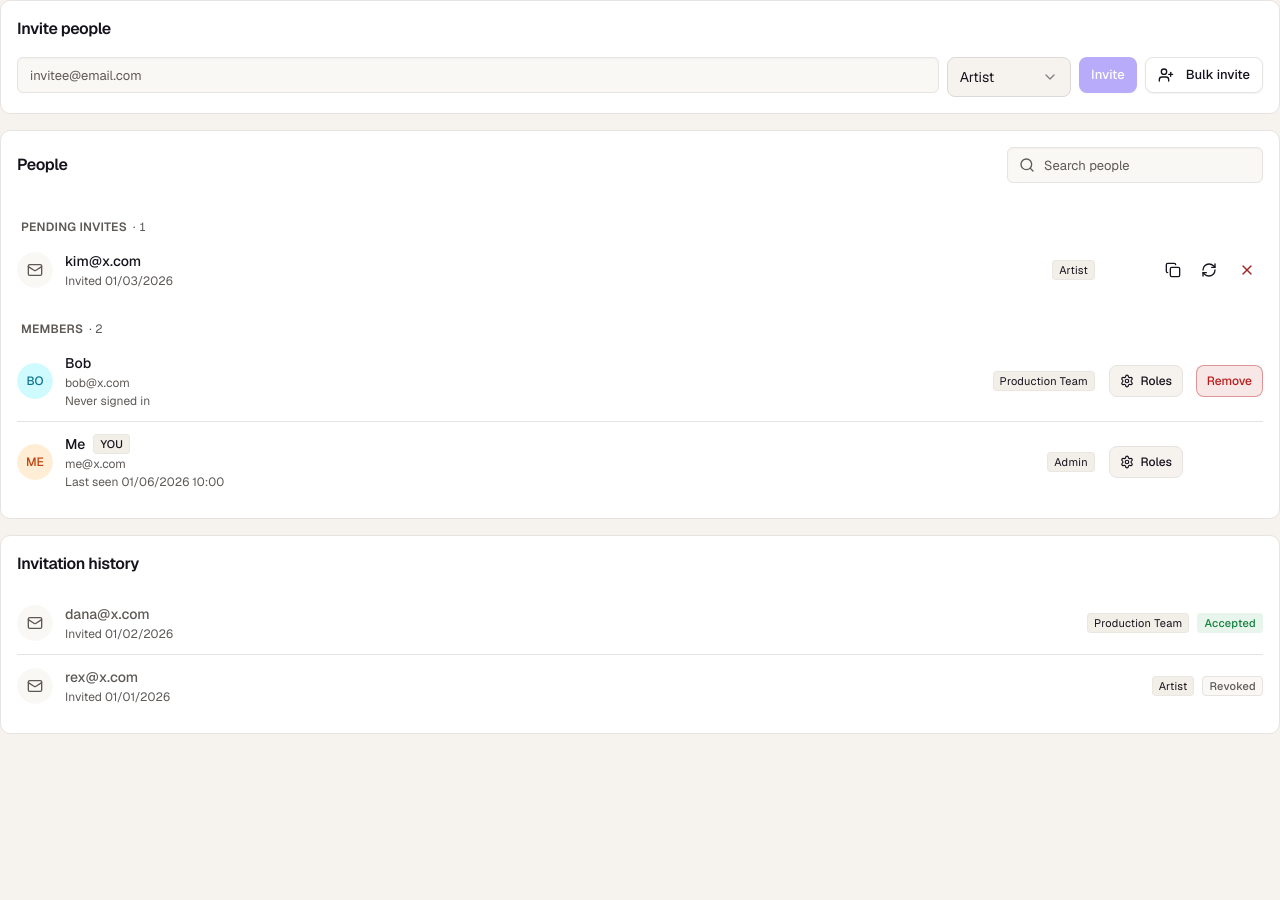
it: PeopleTab › shows members and pending invites, and filters both via one search
The image size is (1280, 900).
Expected: the text "bob@x.com" is shown, [65,375,130,391]
Expected: the text "kim@x.com" is shown, [65,251,141,271]
Type "kim" into the field with placeholder "Search people" at (1135, 165), box [1007,147,1263,183]
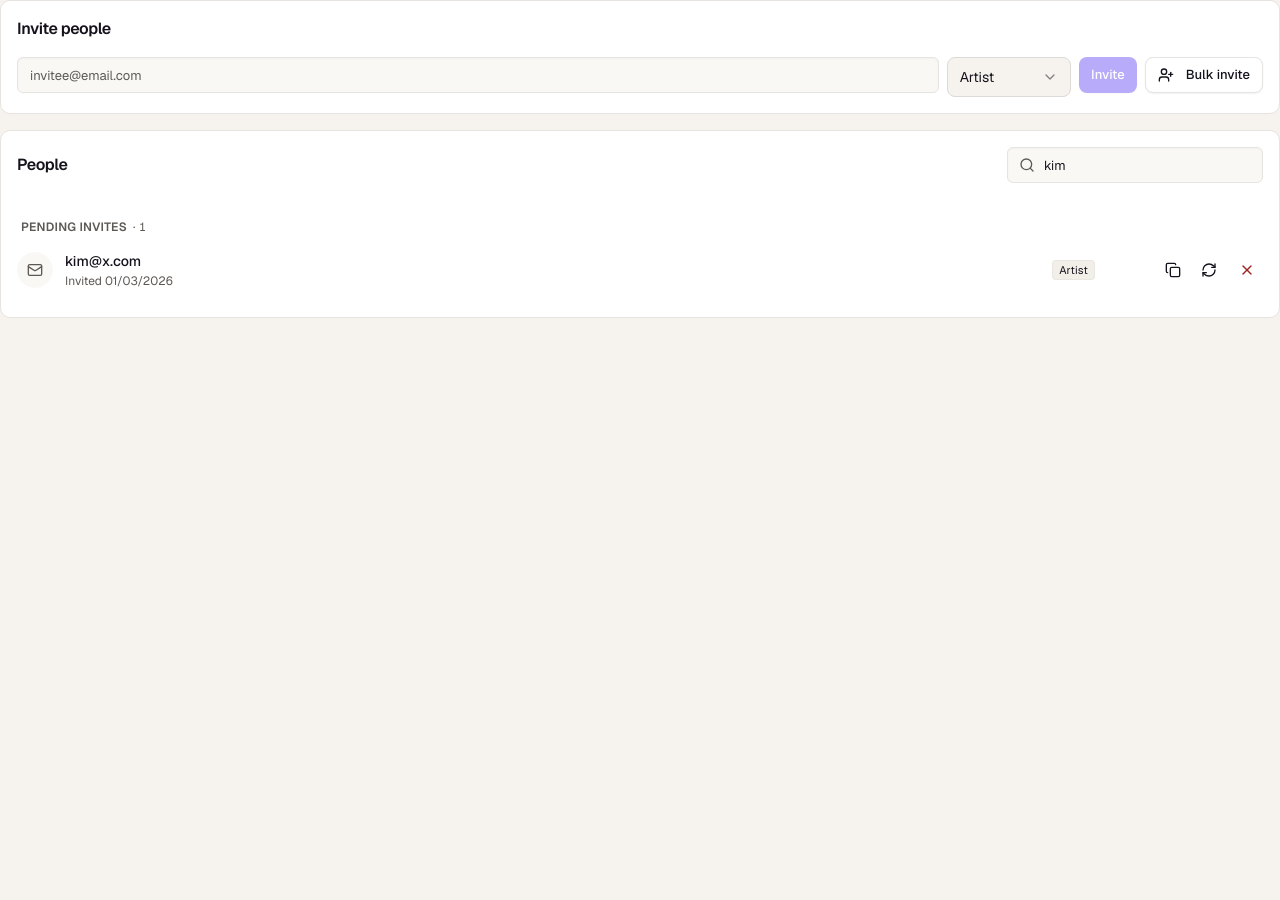
Expected: the text "kim@x.com" is shown, [65,251,141,271]
Expected: the text "bob@x.com" is gone
